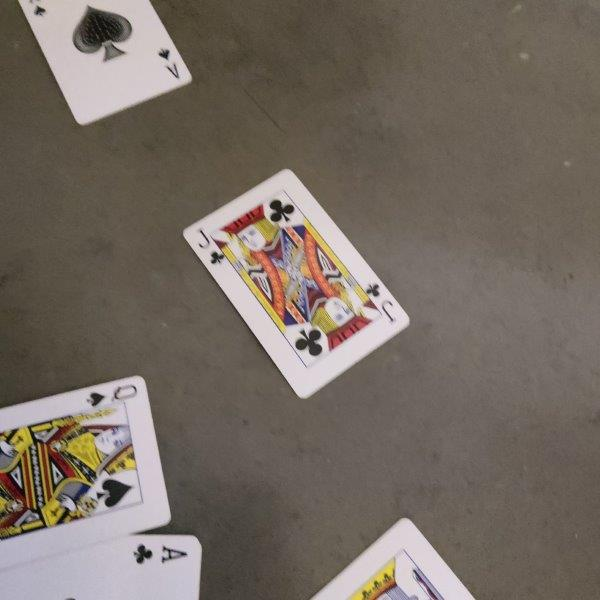Ace of Clubs: (2, 534, 202, 600)
Ace of Spades: (19, 1, 193, 127)
Jack of Clubs: (182, 168, 411, 401)
Queen of Spades: (1, 374, 172, 564)
